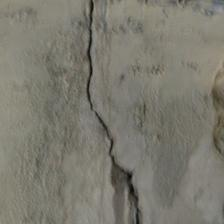Crack: (43, 2, 100, 220)
